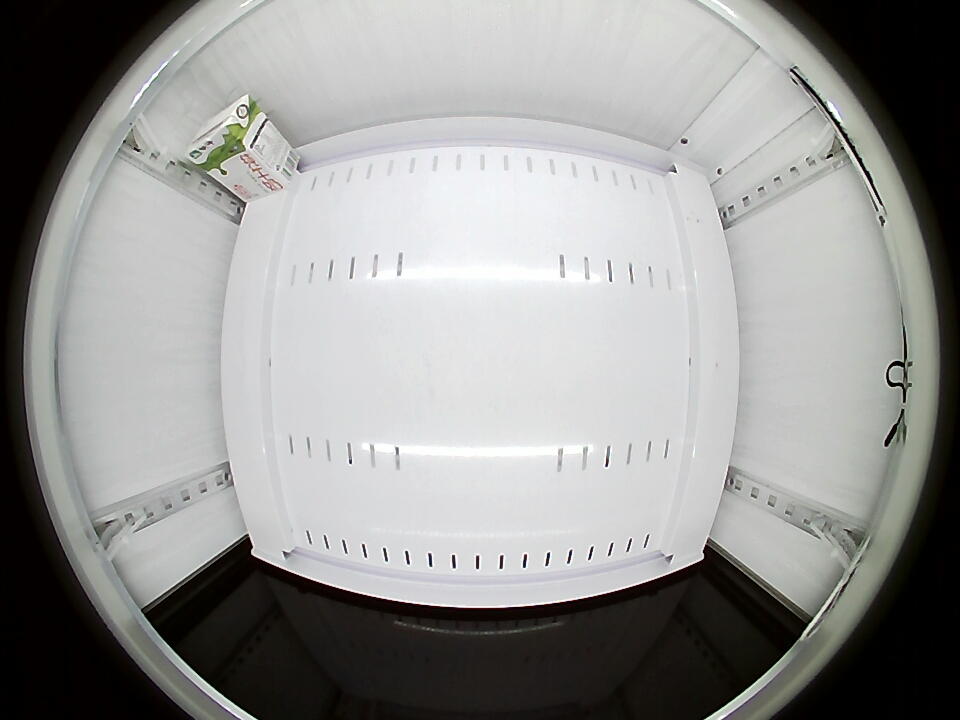mengniu: (185, 92, 266, 177)
